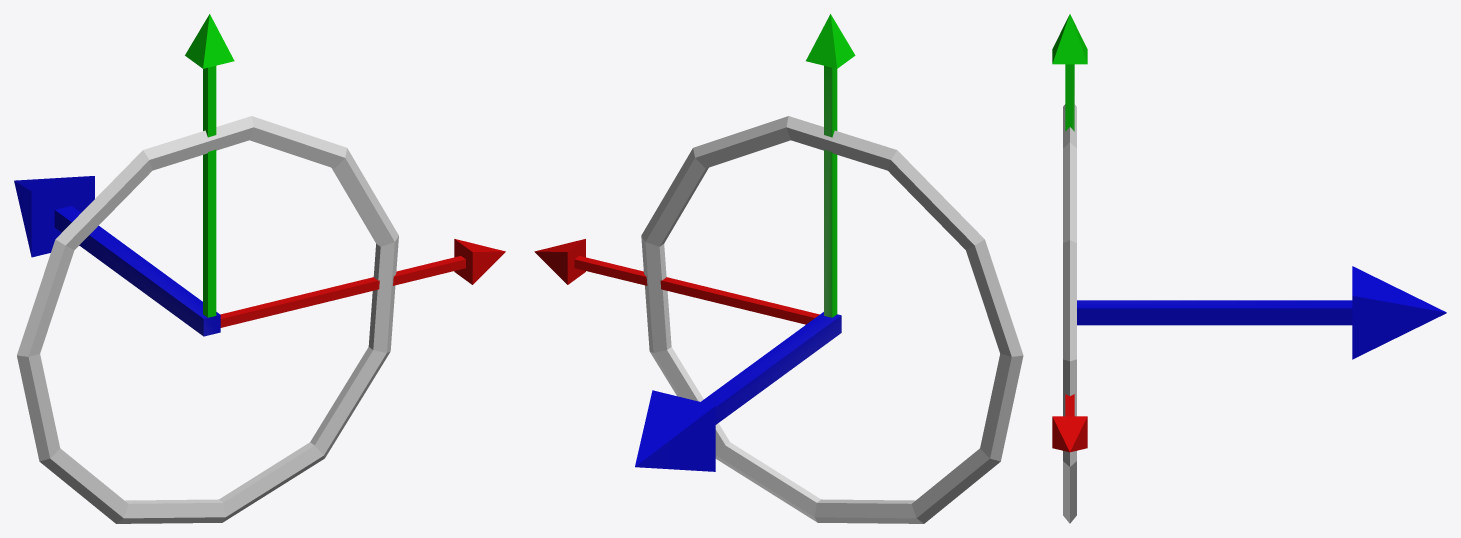
The model's file is arrows.dae.
3 renders of one model, left to right at view 1: azimuth 30°, elevation 25°; view 2: azimuth 150°, elevation 25°; view 3: azimuth 270°, elevation 25°, orthographic. The views are drawn at different scales.
Visible parts, largest first — view 1: Cube.001; view 2: Cube.001; view 3: Cube.001.
Boxes of the visible parts, left/top/right/bottom form: Cube.001: left=14, top=14, right=505, bottom=523; Cube.001: left=534, top=14, right=1023, bottom=523; Cube.001: left=1052, top=14, right=1446, bottom=523.
Size of the model in its own units: 146 by 105 by 146.
